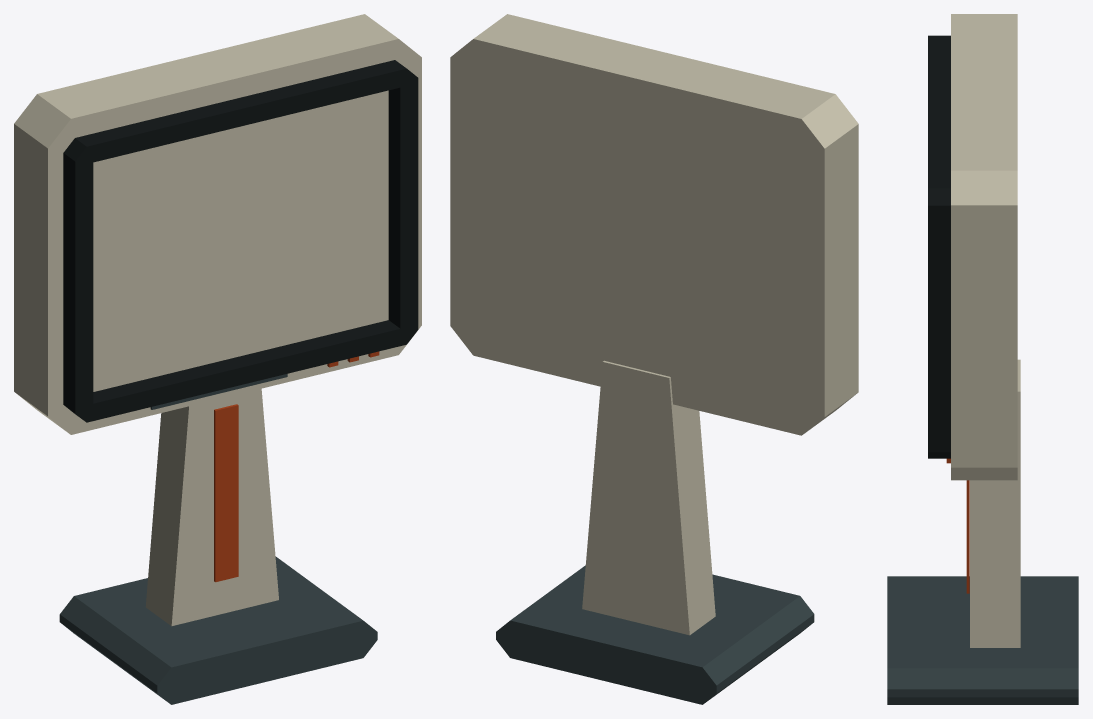
Rendered from mission_display_housing.obj.
The picture shows the model from 3 angles, left to right: view 1: azimuth 30°, elevation 25°; view 2: azimuth 150°, elevation 25°; view 3: azimuth 270°, elevation 25°; orthographic projection. The views are drawn at different scales.
Parts seen in each view (by area): view 1: mission_display_housing; view 2: mission_display_housing; view 3: mission_display_housing.
Boxes of the visible parts, x1,y1,x2,y2 form: mission_display_housing: [14, 14, 421, 704]; mission_display_housing: [450, 14, 858, 704]; mission_display_housing: [887, 14, 1078, 704].
Bounding box in the file's own units: 1.46 × 2.16 × 0.66.
